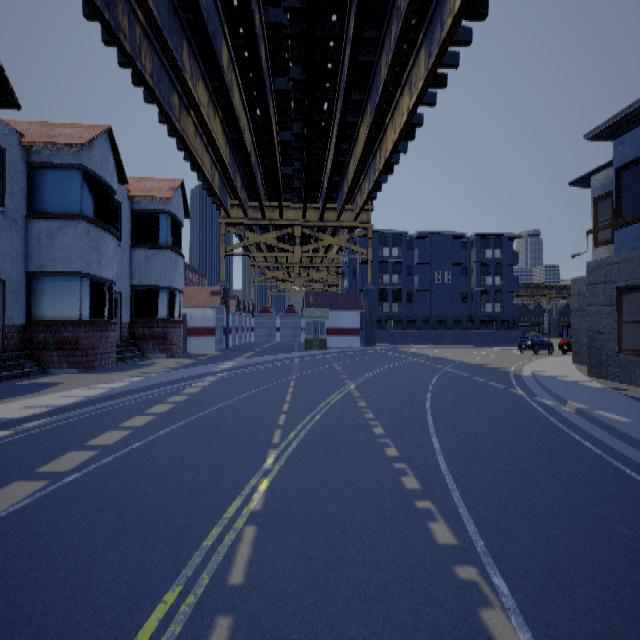vehicle: (517, 332, 553, 354)
